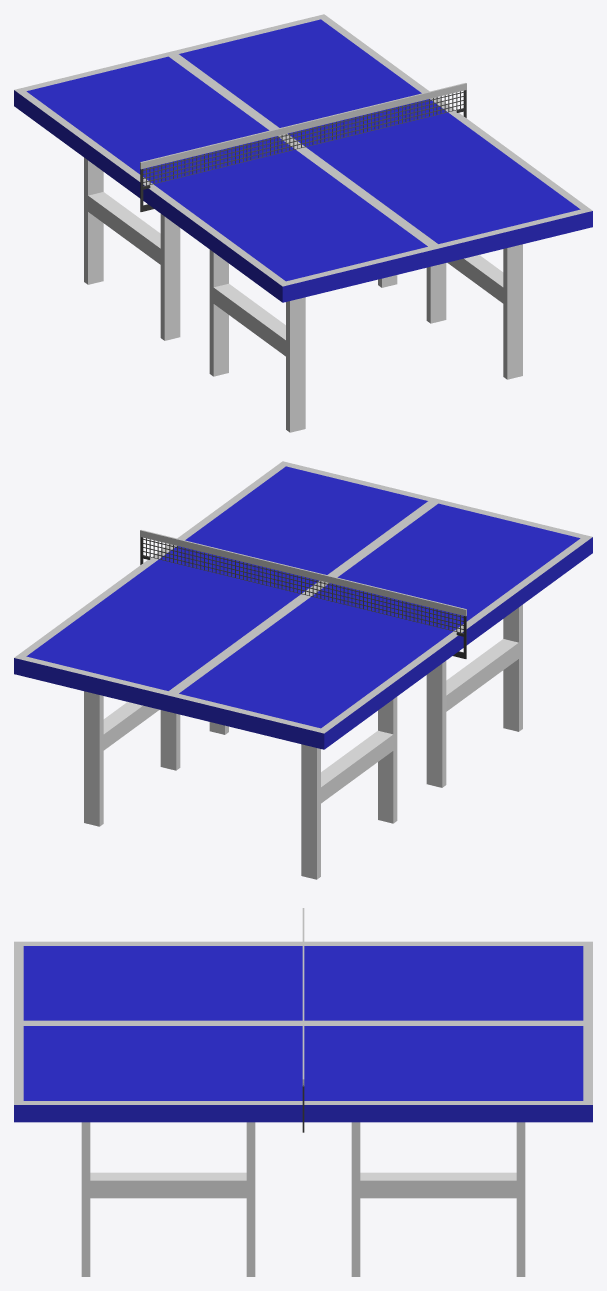
The model's file is Table Tennis Table.fbx.
3 views of the same model, one above another, from view 1: azimuth 30°, elevation 25°; view 2: azimuth 150°, elevation 25°; view 3: azimuth 270°, elevation 25° (orthographic). The views are drawn at different scales.
Parts seen in each view (by area): view 1: Table Tennis Table, Net Holders; view 2: Table Tennis Table, Net Holders; view 3: Table Tennis Table, Net Holders.
Part boxes in pixels (<box>): Table Tennis Table: <box>14,14,592,432</box>; Net Holders: <box>140,83,466,211</box>; Table Tennis Table: <box>14,461,592,879</box>; Net Holders: <box>140,530,466,658</box>; Table Tennis Table: <box>14,941,592,1276</box>; Net Holders: <box>302,908,304,1132</box>.
Size of the model in its own units: 714 by 432 by 1020.
